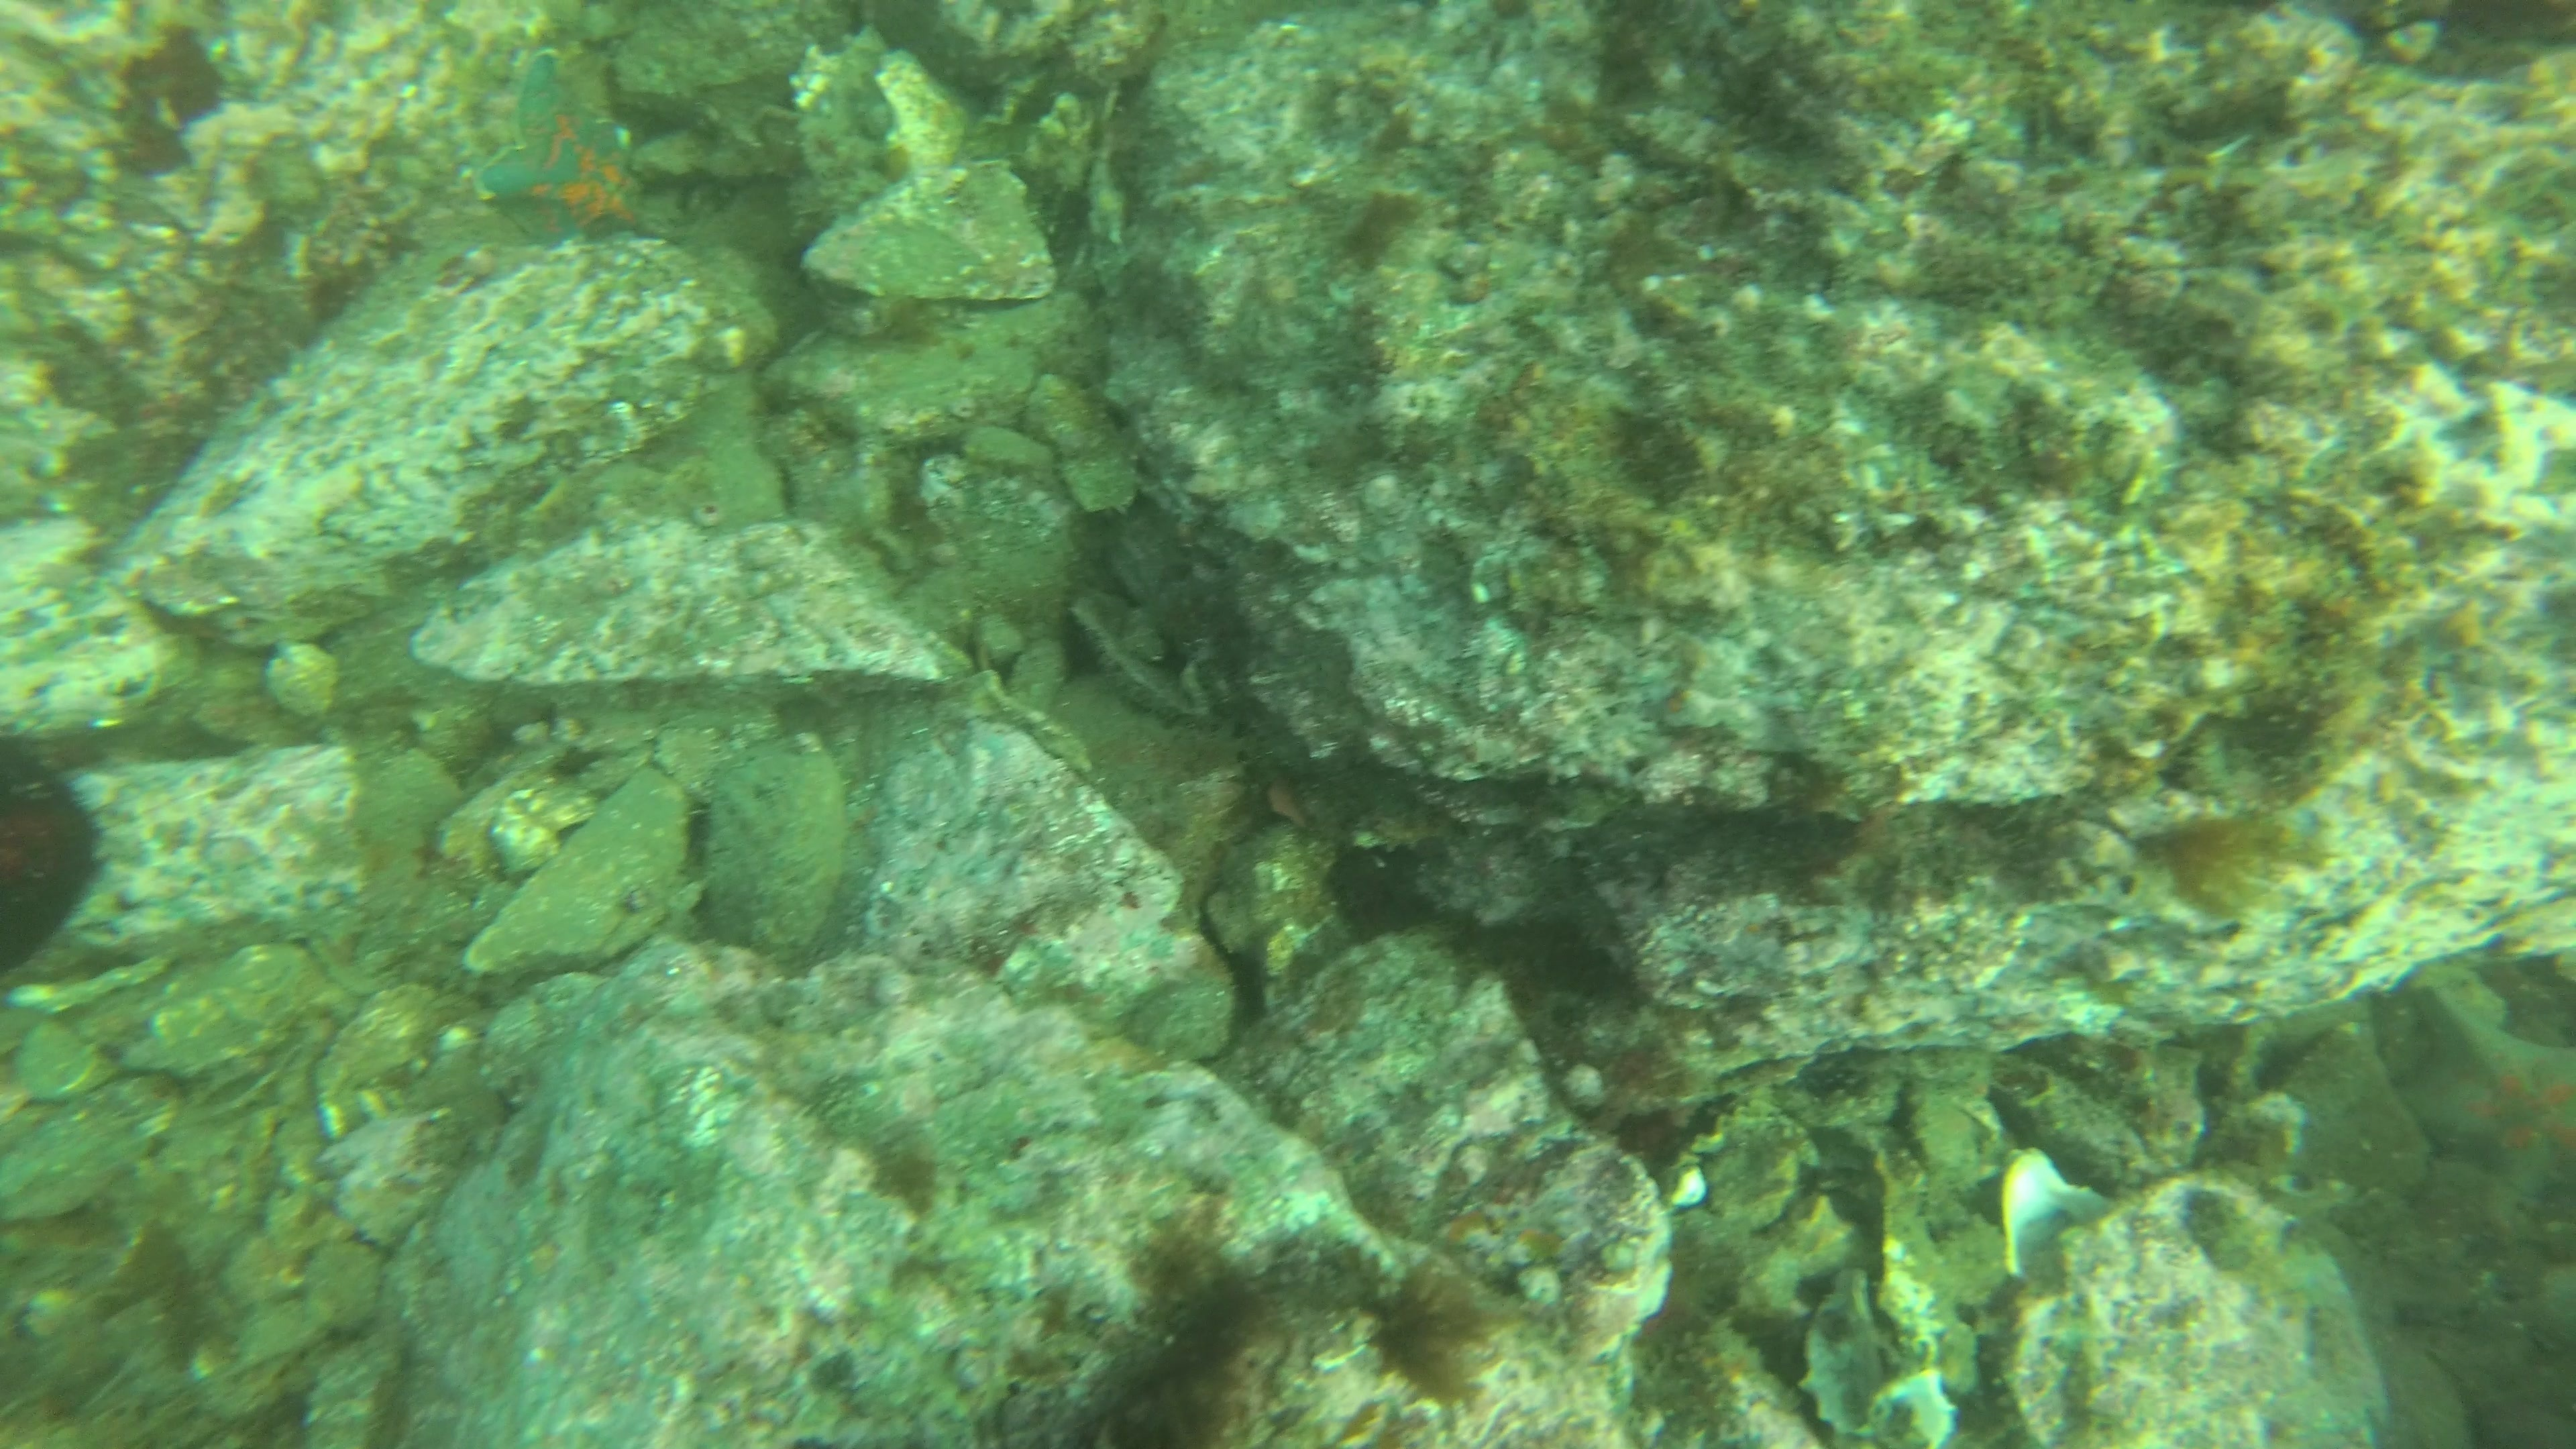echinus: (0, 734, 122, 982)
starfish: (2380, 973, 2572, 1219), (464, 48, 665, 251)
